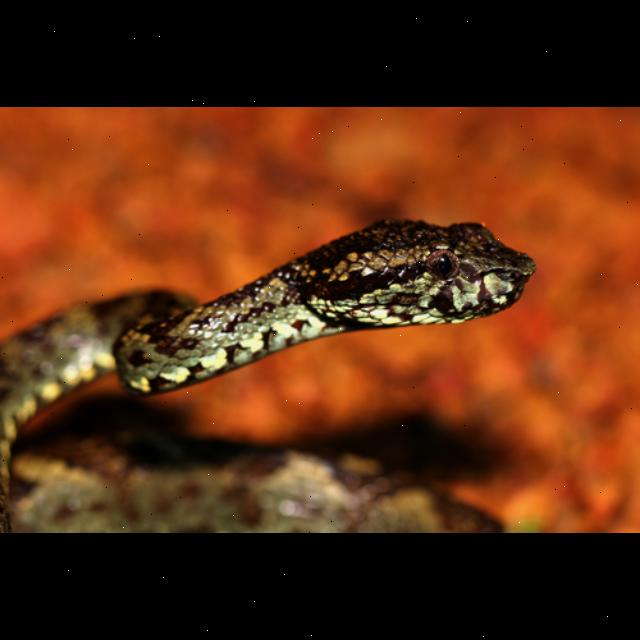snake: (0, 210, 548, 450)
